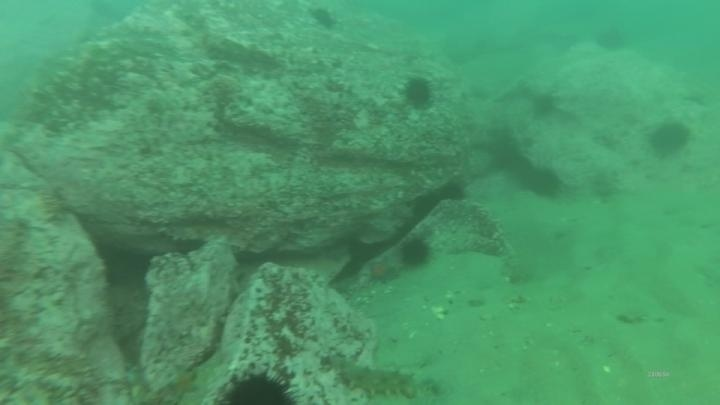echinus: (218, 367, 300, 405), (646, 118, 693, 159), (520, 164, 564, 202), (397, 235, 434, 271), (400, 74, 436, 111), (593, 24, 630, 55), (528, 91, 559, 121), (308, 5, 340, 32)
holothurian: (329, 355, 421, 402), (449, 231, 504, 262), (465, 199, 502, 241)
starfish: (165, 363, 202, 402), (362, 255, 401, 287)
